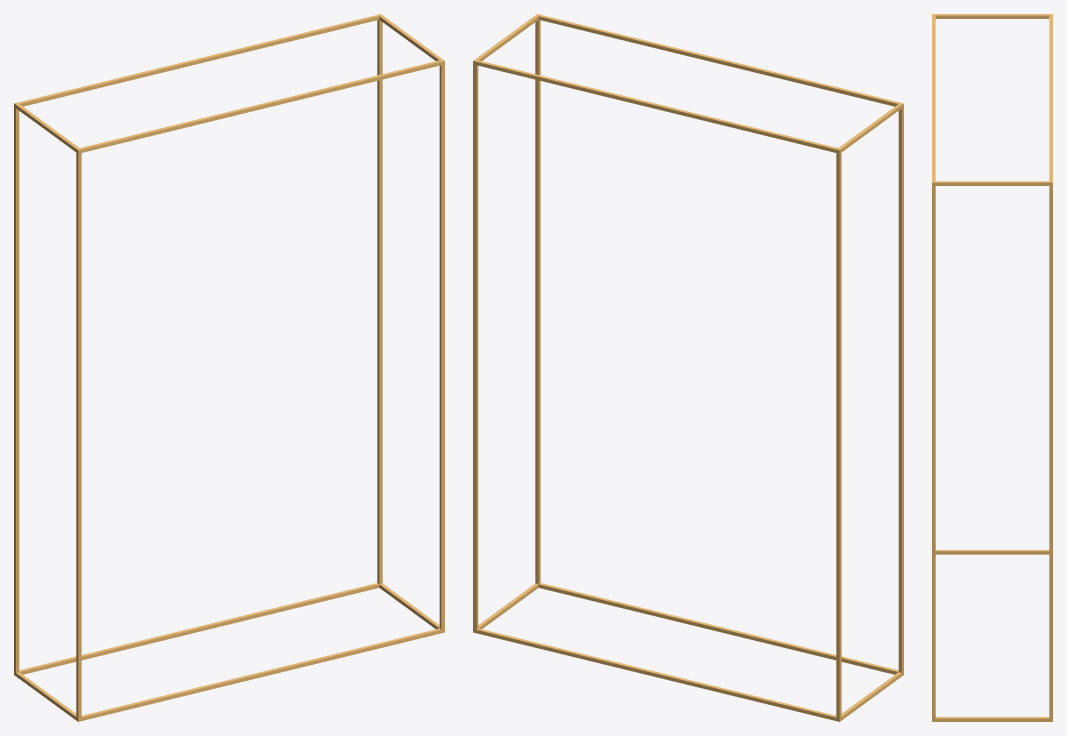
The model's file is costumes.glb.
3 renders of one model, left to right at view 1: azimuth 30°, elevation 25°; view 2: azimuth 150°, elevation 25°; view 3: azimuth 270°, elevation 25°, orthographic. The views are drawn at different scales.
Parts seen in each view (by area): view 1: box_0; view 2: box_0; view 3: box_0.
Boxes of the visible parts, box(x1,y1,x2,y2) form: box_0: box(14, 14, 444, 721); box_0: box(473, 14, 903, 721); box_0: box(932, 14, 1052, 721).
Bounding box in the file's own units: 1.09 × 1.62 × 0.3288.
